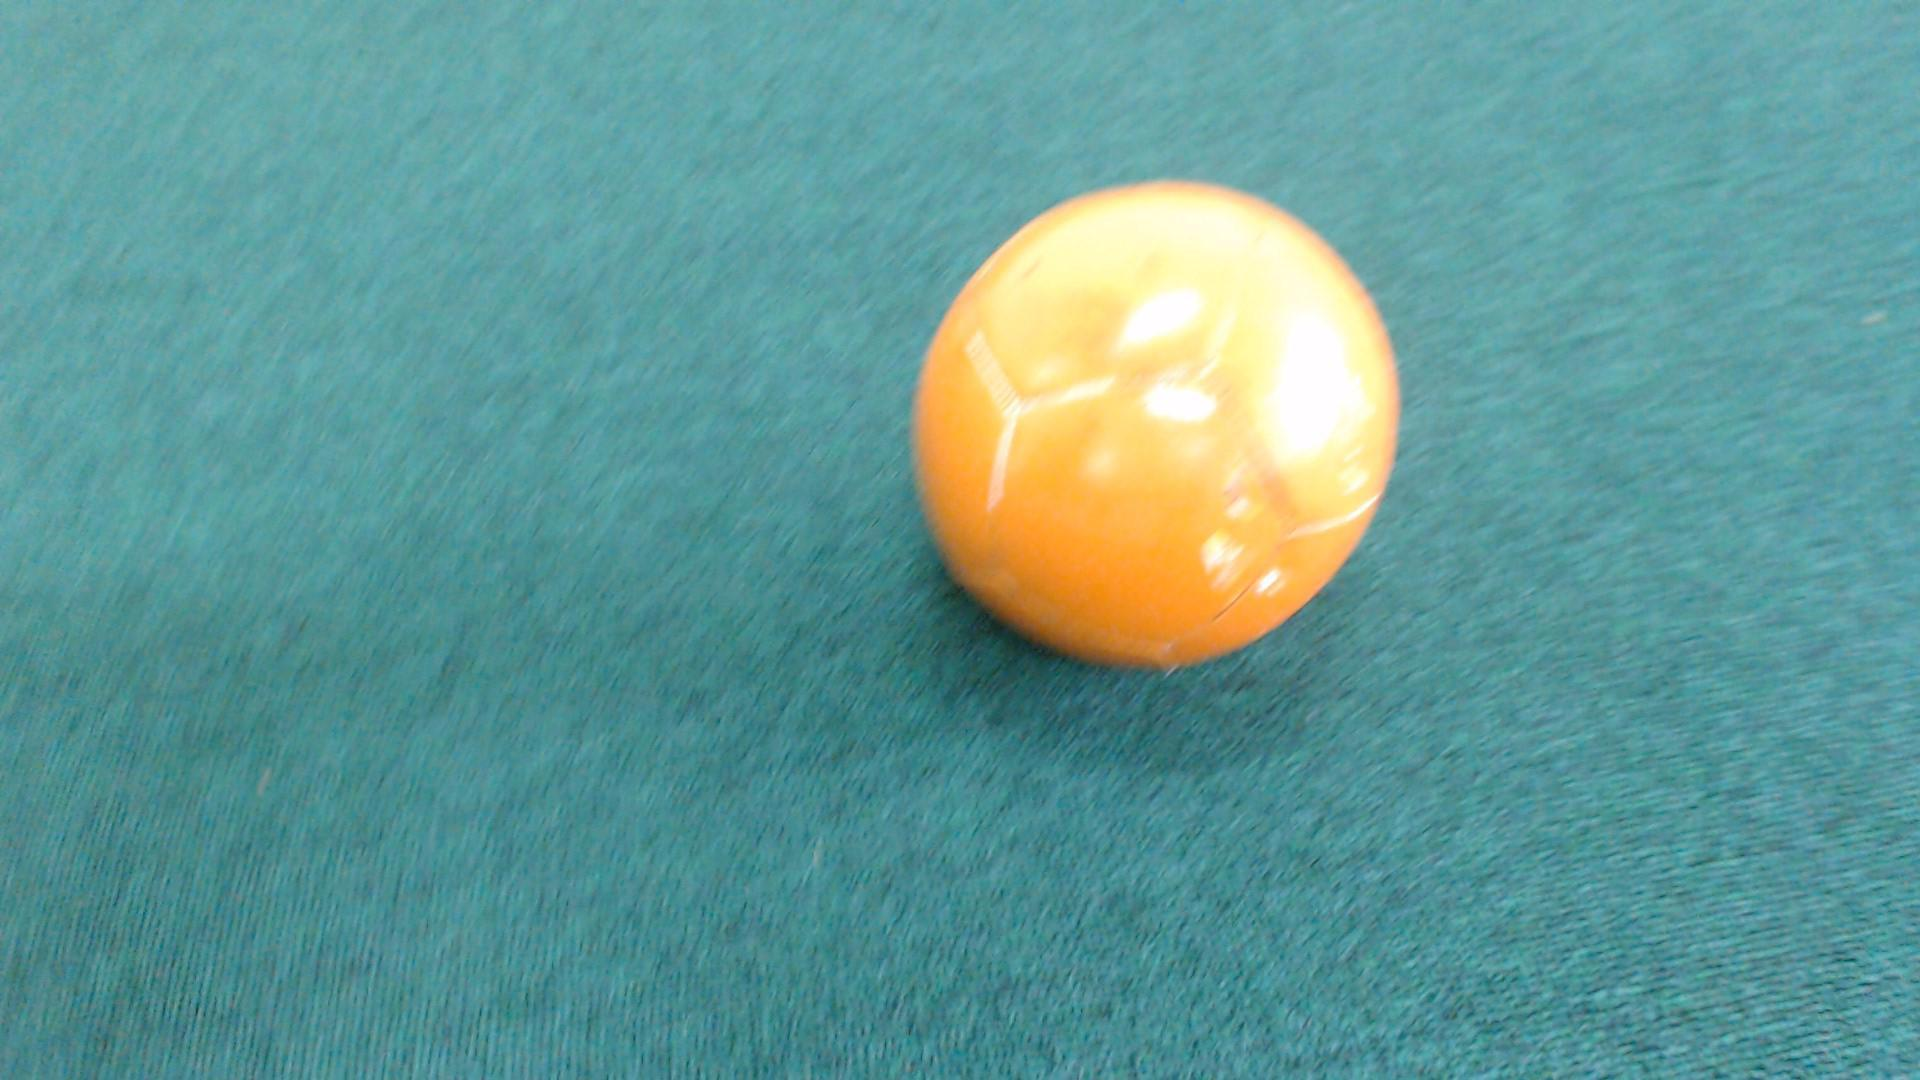bola: (880, 149, 1423, 715)
